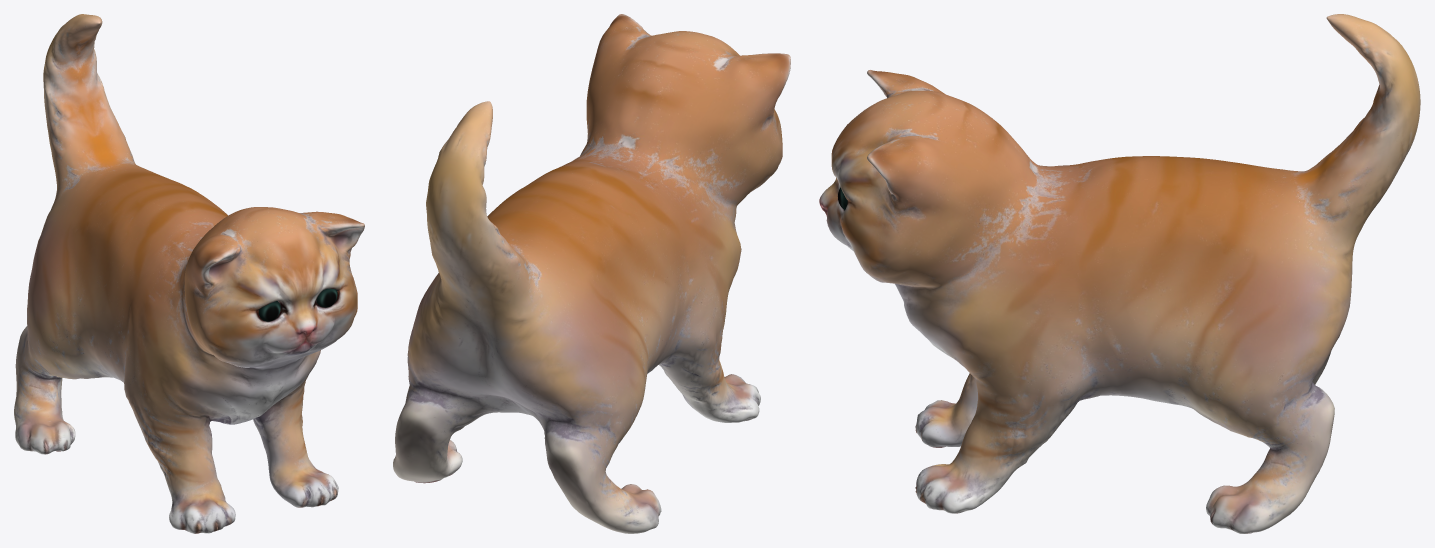
File: porcelain_toy___kitten.glb
3 renders of one model, left to right at view 1: azimuth 30°, elevation 25°; view 2: azimuth 150°, elevation 25°; view 3: azimuth 270°, elevation 25°, orthographic. The views are drawn at different scales.
Visible parts, largest first — view 1: kitten, eyes; view 2: kitten; view 3: kitten.
Part boxes in pixels (left/top/right/bottom): kitten: left=14, top=14, right=364, bottom=533; eyes: left=258, top=288, right=337, bottom=321; kitten: left=393, top=14, right=790, bottom=533; kitten: left=819, top=14, right=1420, bottom=533.
Size of the model in its own units: 1.05 by 1.68 by 2.
Materials: 2 (2 with a texture image).
